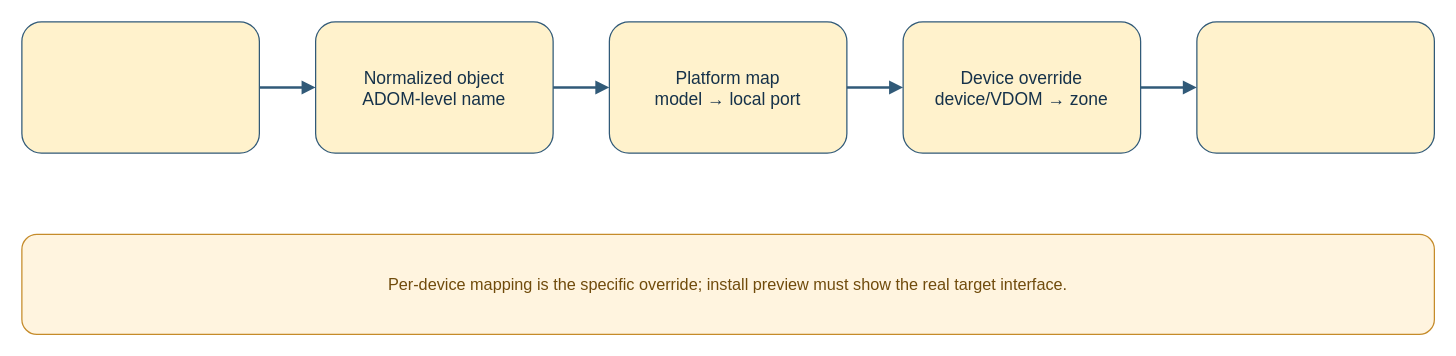
This 1456x356 diagram has some shape labels left out. The centre of each missing label's shape, as x and y in pixels:
Install result target srcintf/dstintf: pixel 1315 87
Policy package uses logical VOICE: pixel 140 87
